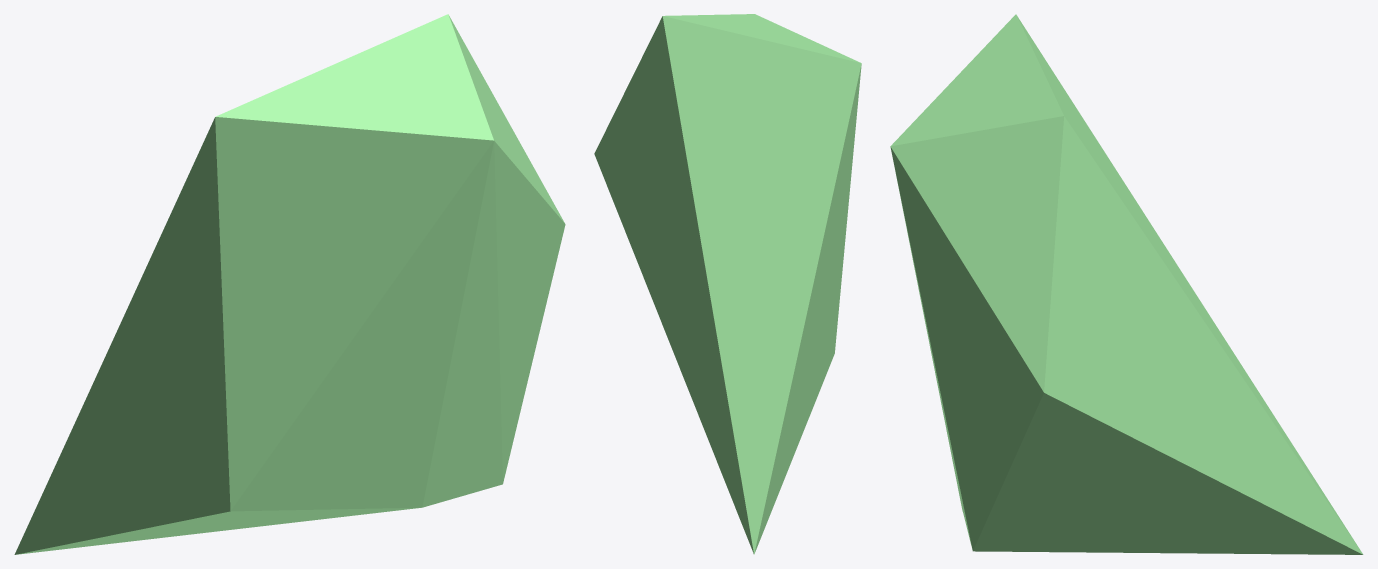
File: linkhou_robot_base_coll_12.dae
The picture shows the model from 3 angles, left to right: view 1: azimuth 30°, elevation 25°; view 2: azimuth 150°, elevation 25°; view 3: azimuth 270°, elevation 25°; orthographic projection. The views are drawn at different scales.
Parts seen in each view (by area): view 1: Node_0000029808437810; view 2: Node_0000029808437810; view 3: Node_0000029808437810.
Part boxes in pixels (x1,y1,x2,y2): Node_0000029808437810: [14, 14, 565, 554]; Node_0000029808437810: [594, 14, 861, 554]; Node_0000029808437810: [890, 14, 1363, 554].
Bounding box in the file's own units: 0.034 × 0.0487 × 0.0364.
